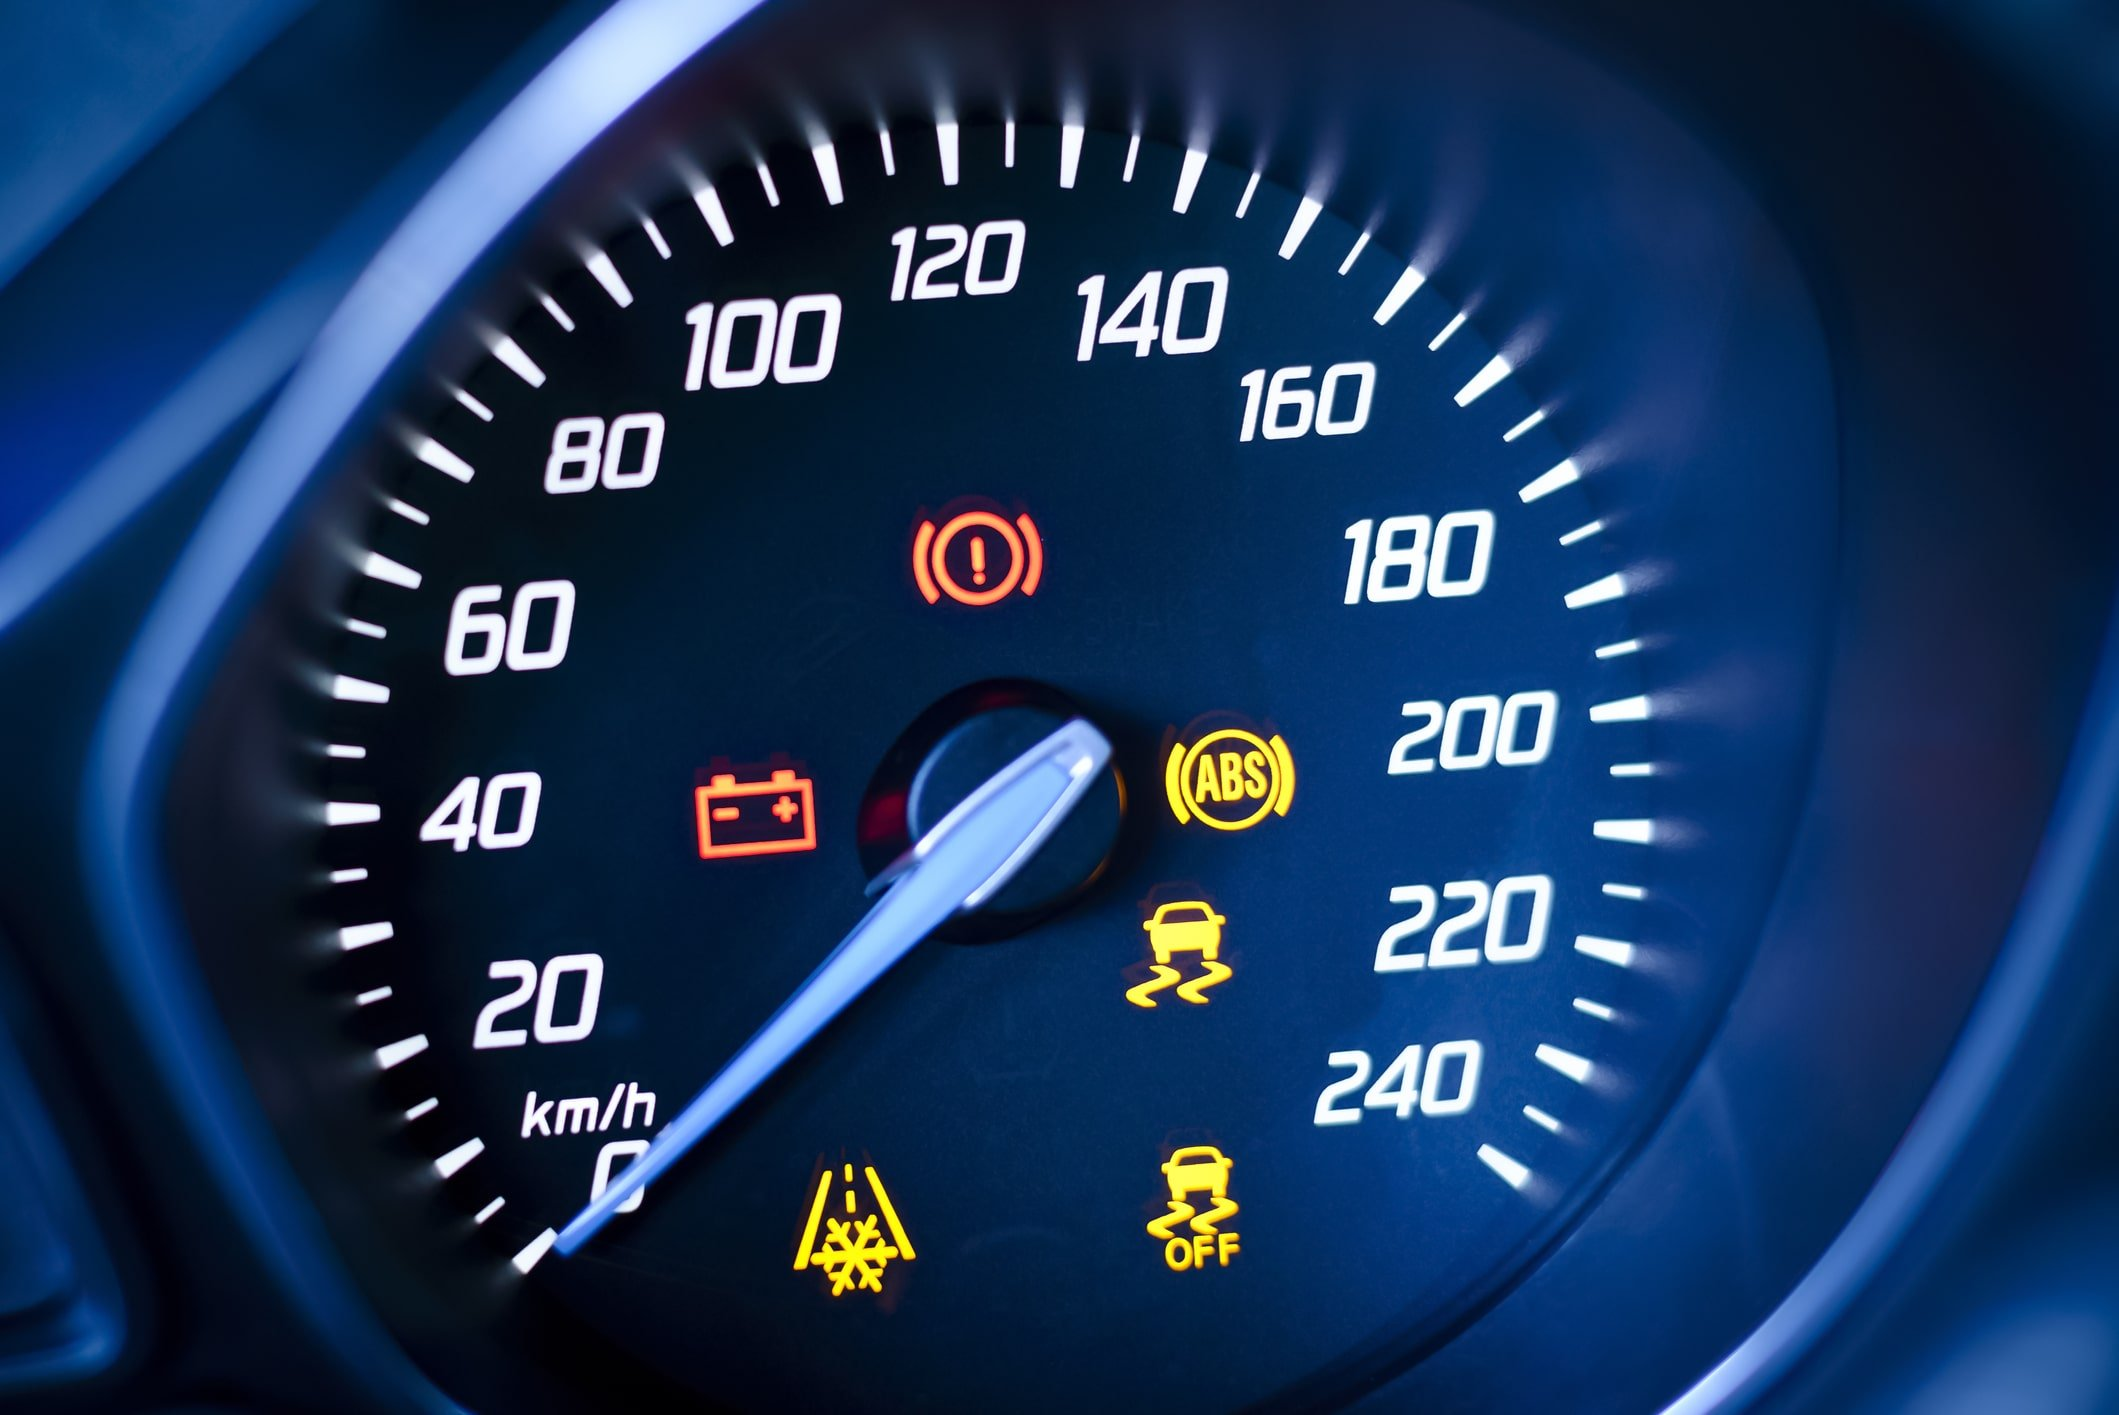ABS: (1149, 722, 1316, 837)
